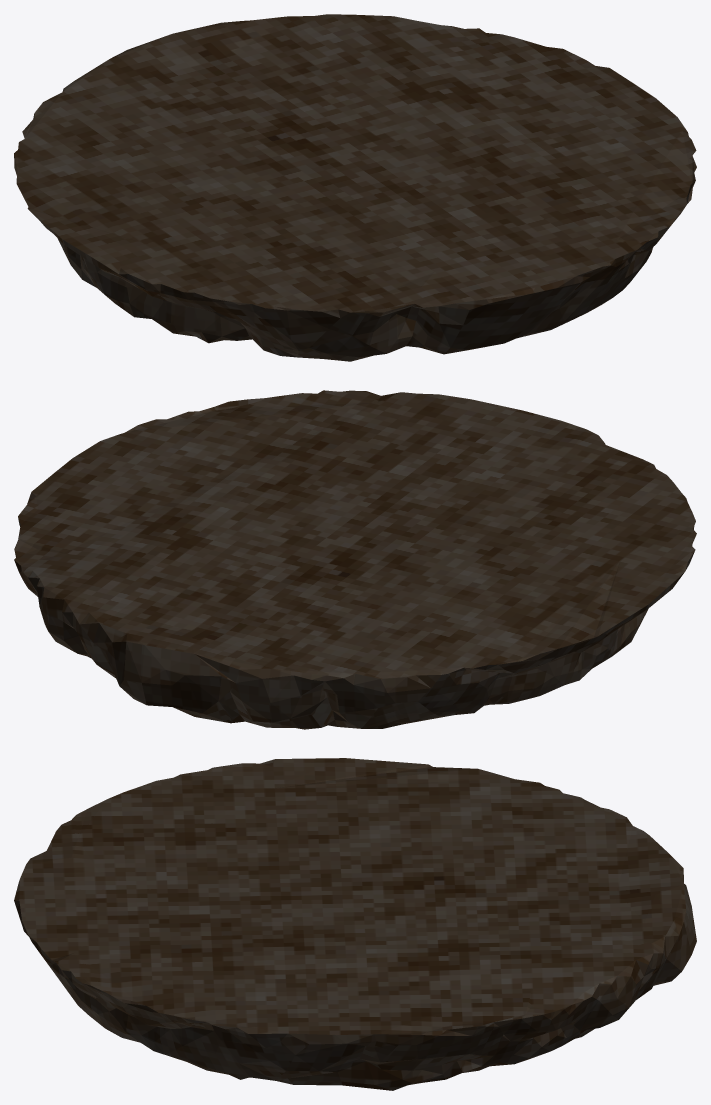
File: cave-island1.glb
The picture shows the model from 3 angles, top to bottom: view 1: azimuth 30°, elevation 25°; view 2: azimuth 150°, elevation 25°; view 3: azimuth 270°, elevation 25°; orthographic projection. The views are drawn at different scales.
Visible parts, largest first — view 1: Cylinder; view 2: Cylinder; view 3: Cylinder.
Boxes of the visible parts, x1=… form: Cylinder: x1=14, y1=14, x2=696, y2=361; Cylinder: x1=14, y1=390, x2=696, y2=729; Cylinder: x1=14, y1=758, x2=696, y2=1090.
Bounding box in the file's own units: 3.87 × 0.5472 × 4.01.
1 material, 1 textured.
